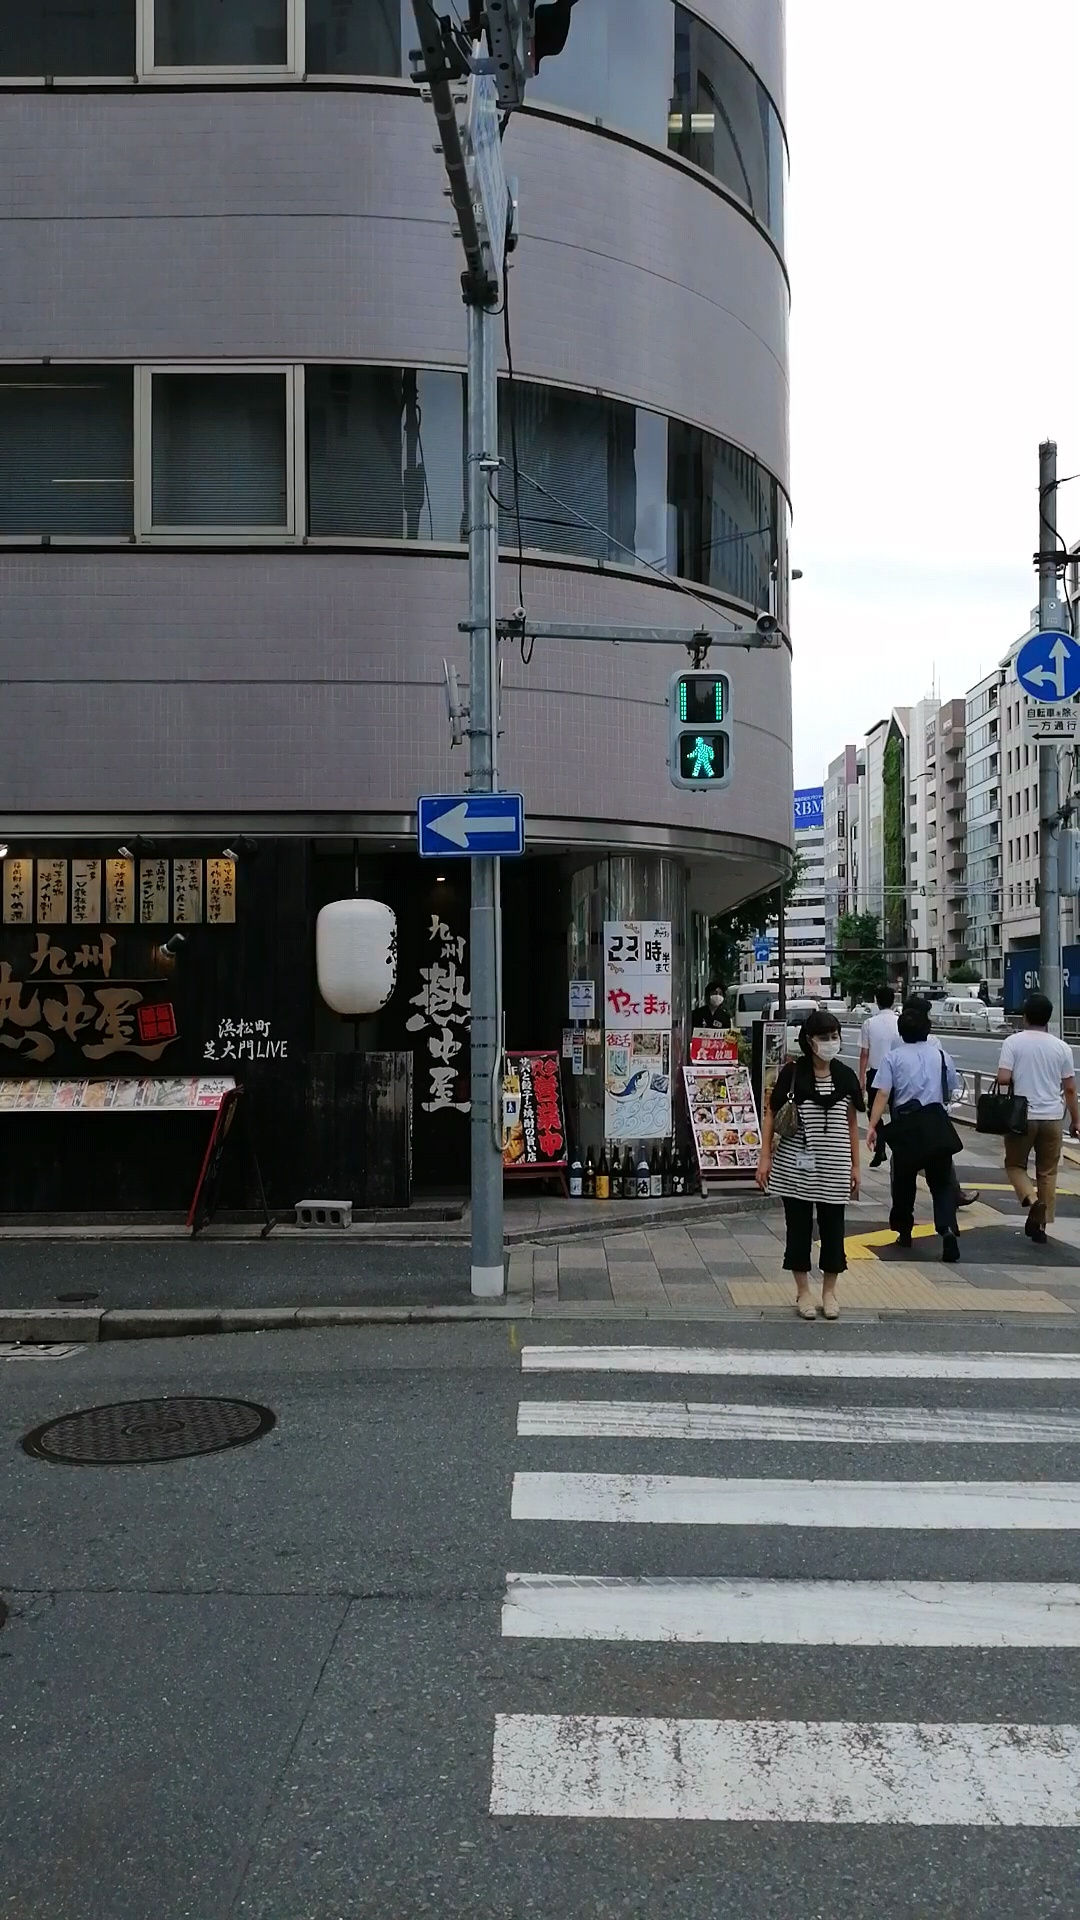green: (669, 670, 731, 790)
